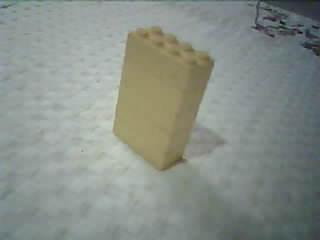lego: (110, 21, 216, 170)
